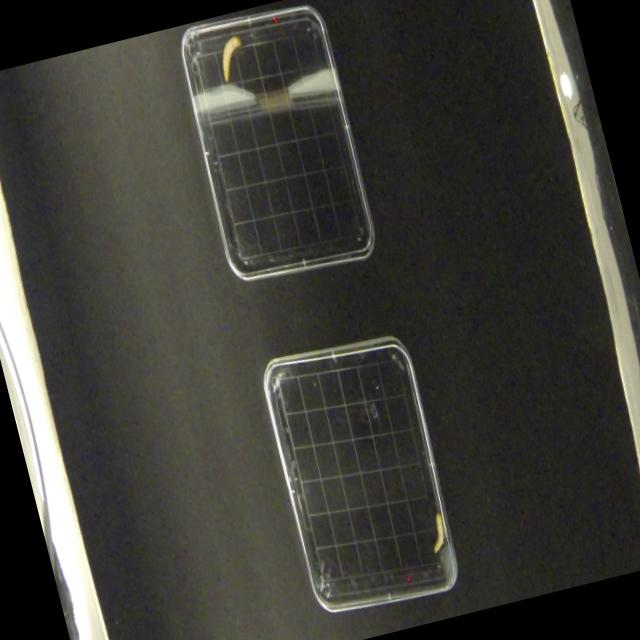larva: (212, 31, 252, 86), (422, 508, 452, 558)
